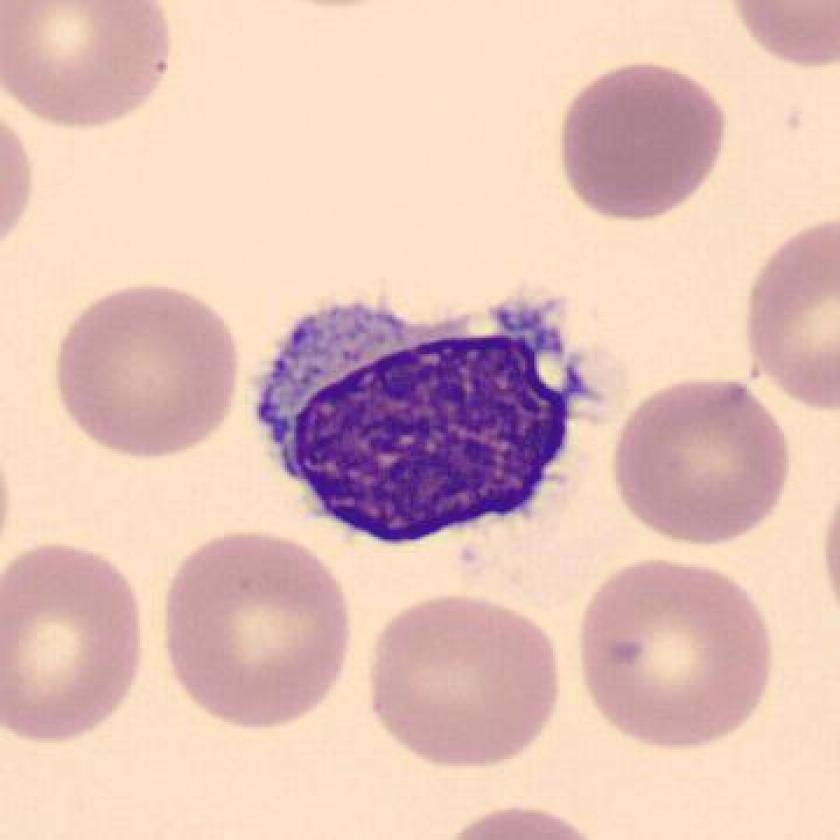lymphocyte: (244, 270, 612, 571)
